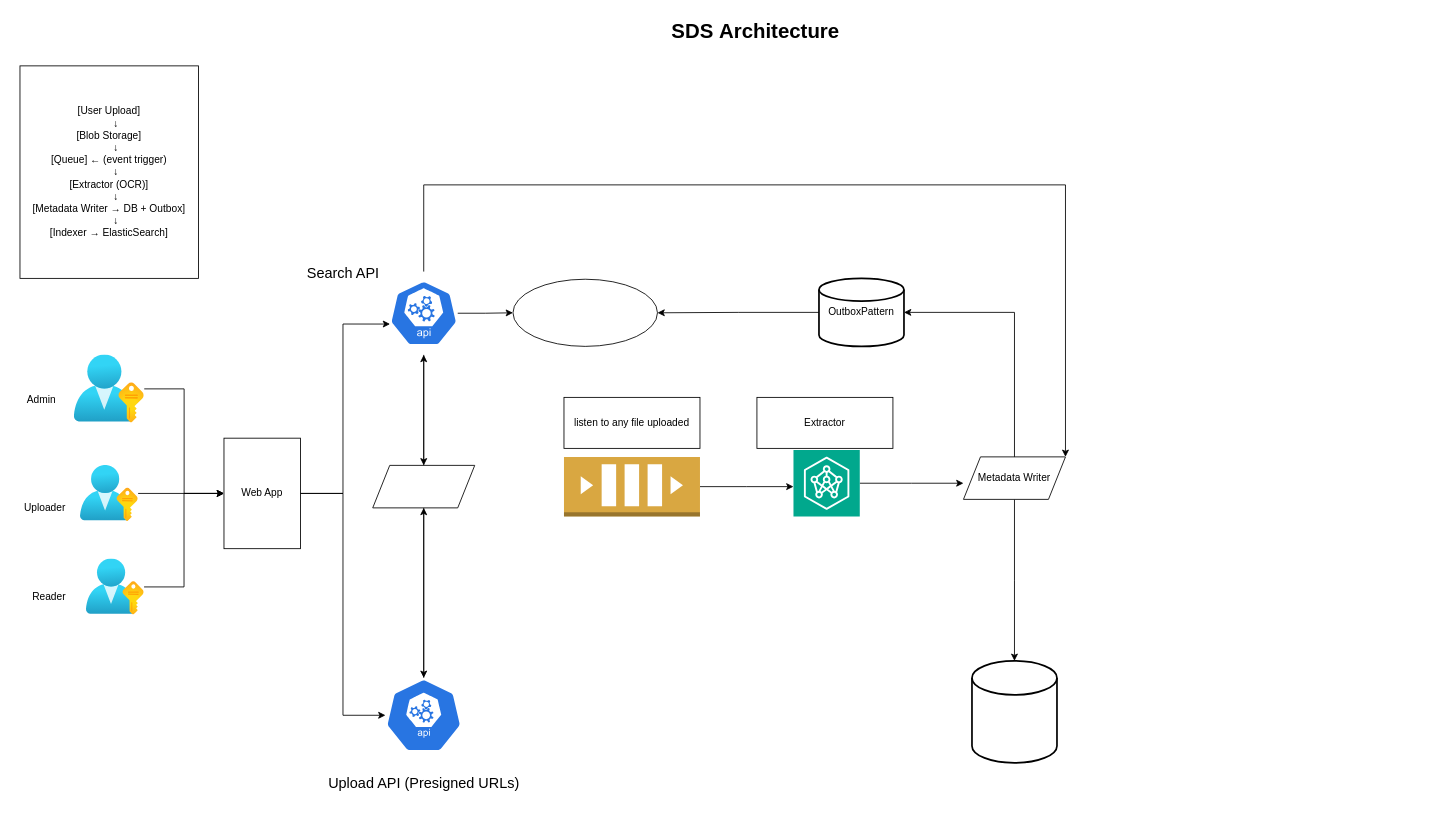
Image size: 1446x819. Some labels were removed from this diagram. The shapes that lost their labels are listed below. From the top down, each one's centre as x and y in pixels, then its label:
At point (584, 312): "secondary index (Elastic/OpenSearch/Azure AI Search)".
At point (423, 486): "RBAC Service".
At point (1014, 711): "RDBMS".
